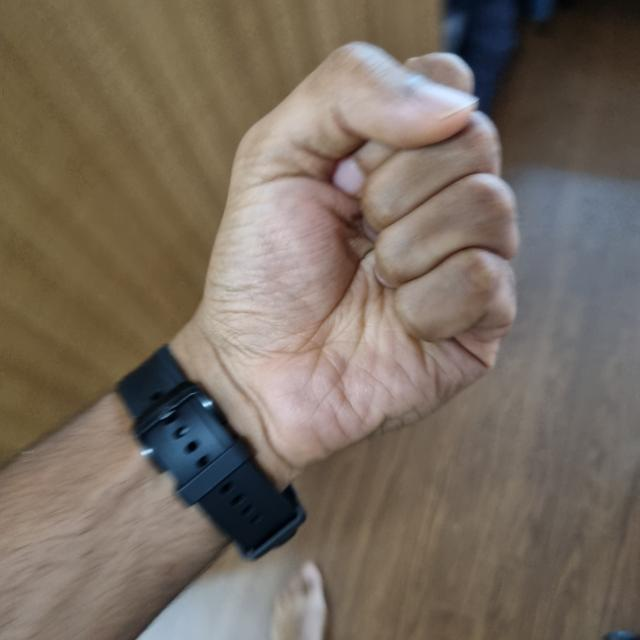Rock: (187, 49, 516, 467)
